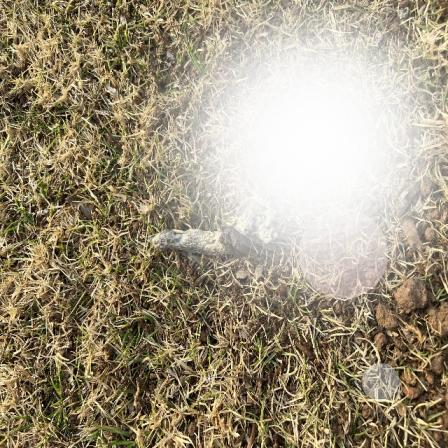dog-poop: (151, 199, 286, 262)
